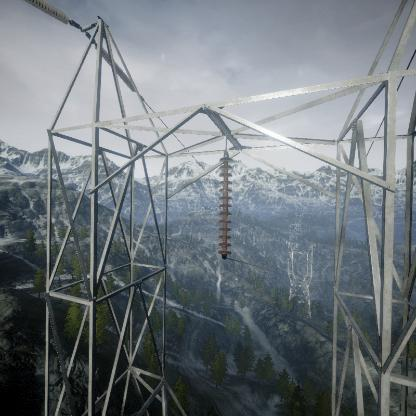insulator: (96, 44, 139, 98), (217, 153, 236, 258), (23, 0, 78, 27)
tower: (284, 239, 317, 326)
